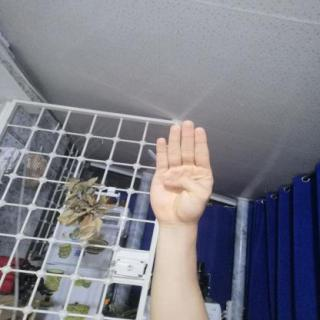KAAF: (142, 114, 222, 230)
